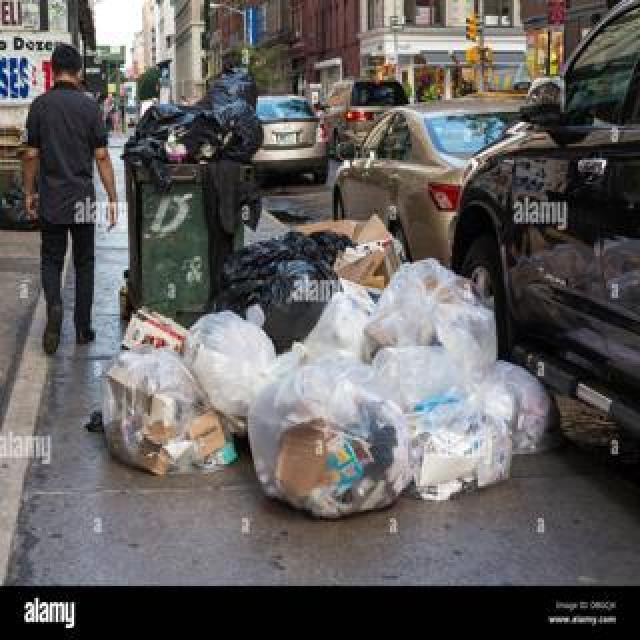Trashbag: (195, 98, 257, 165), (132, 104, 192, 164)
